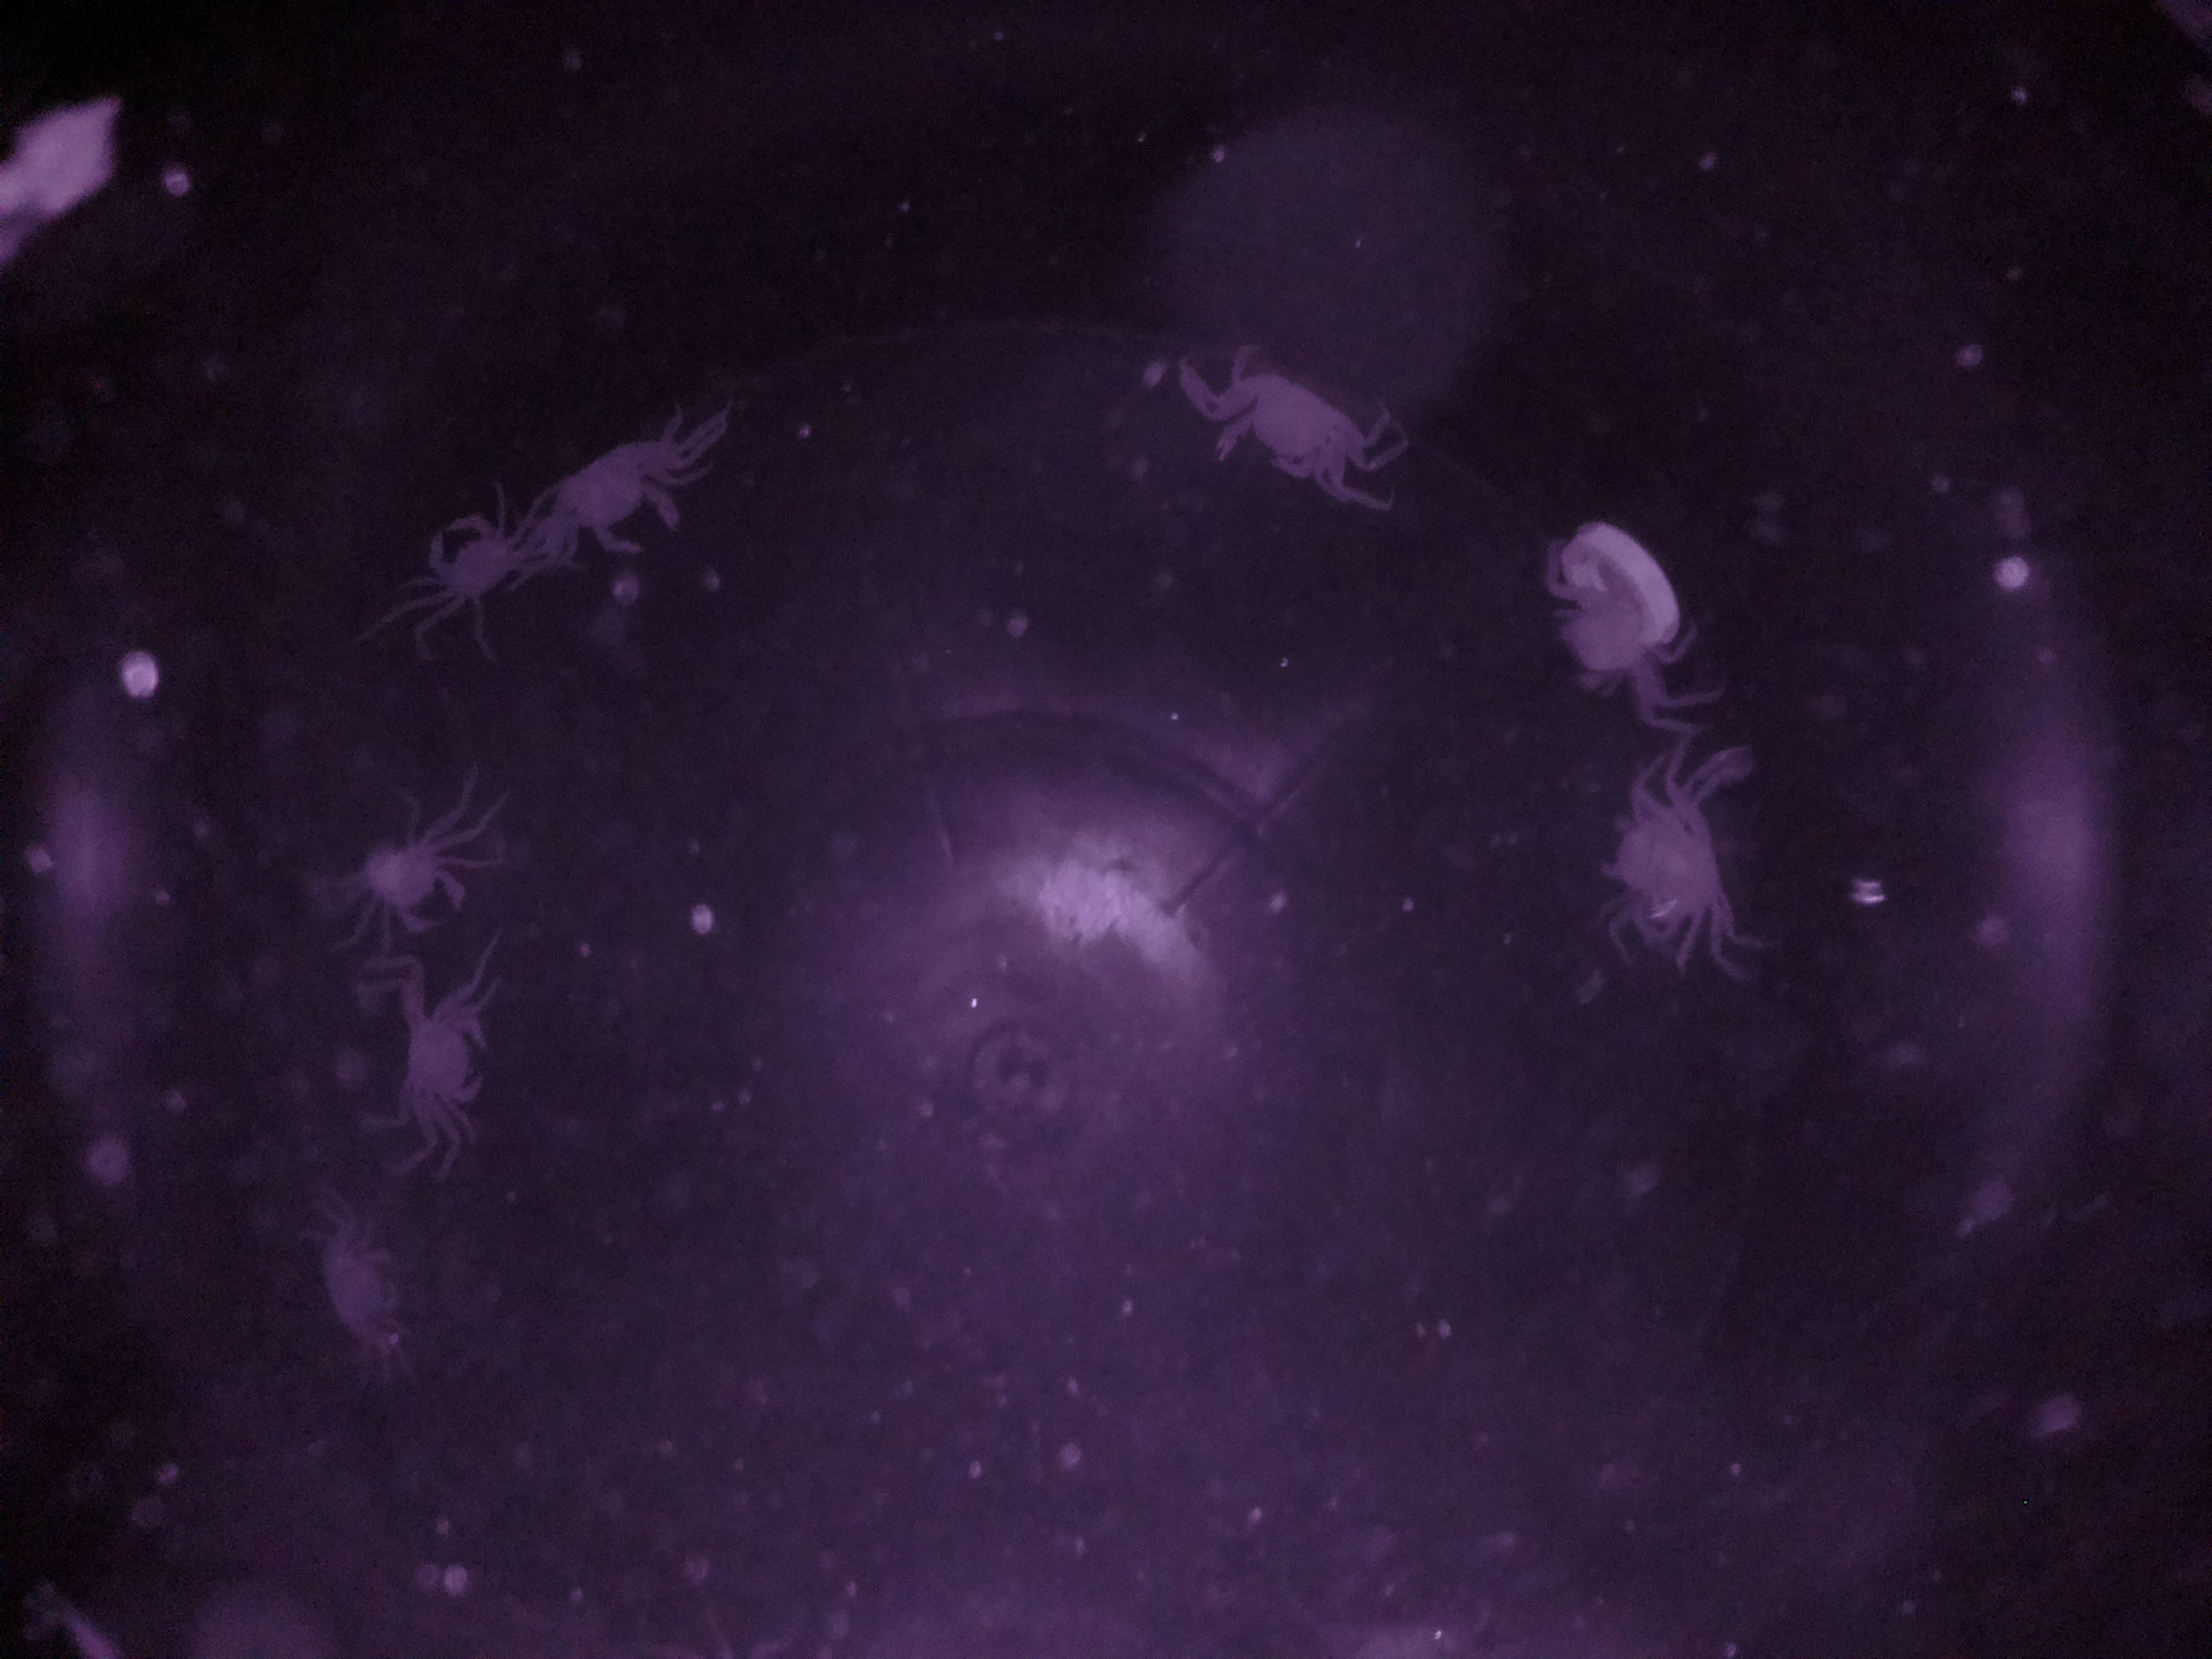Crab: (543, 415, 716, 594), (1191, 349, 1383, 502), (376, 972, 521, 1162), (383, 493, 533, 659), (329, 810, 512, 943)
